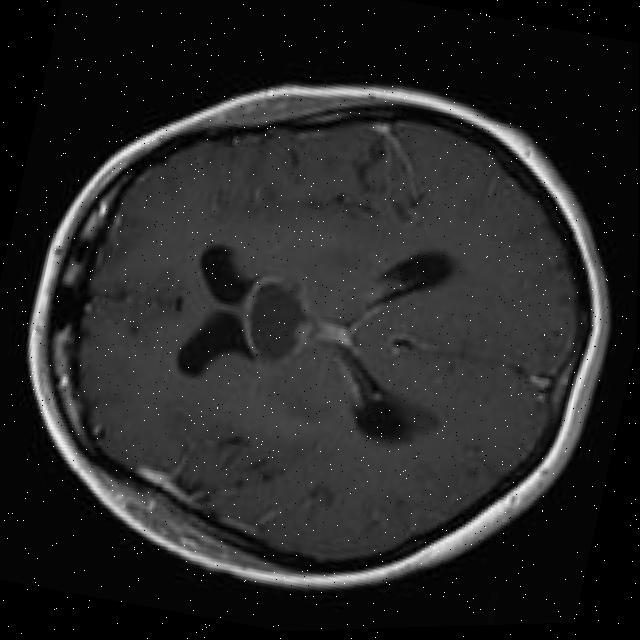NoTumor: (0, 5, 640, 640)
